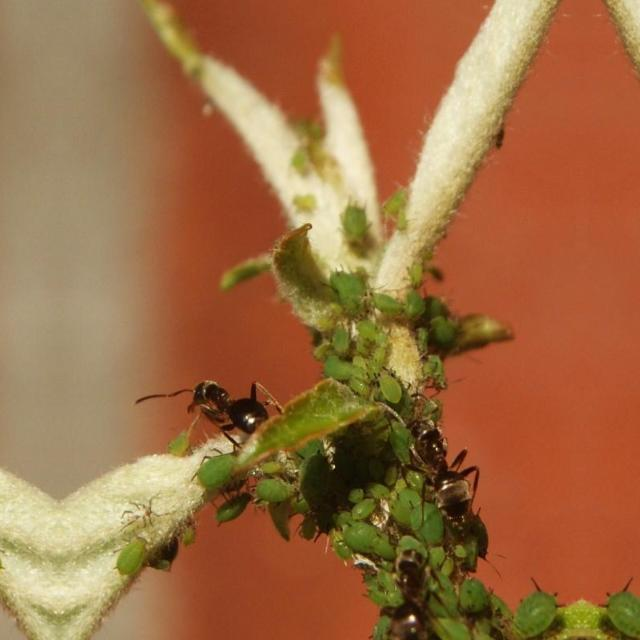Lasius: (143, 362, 297, 446), (404, 411, 494, 525)
